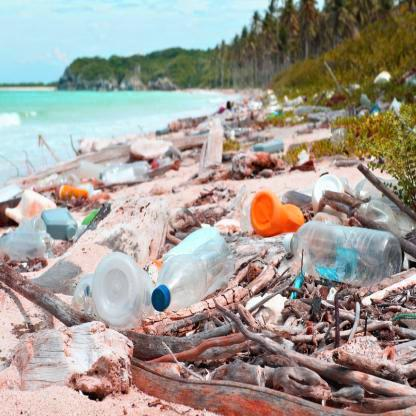Plastic: (282, 214, 402, 288), (149, 221, 235, 315), (90, 247, 158, 328), (249, 190, 306, 232)
